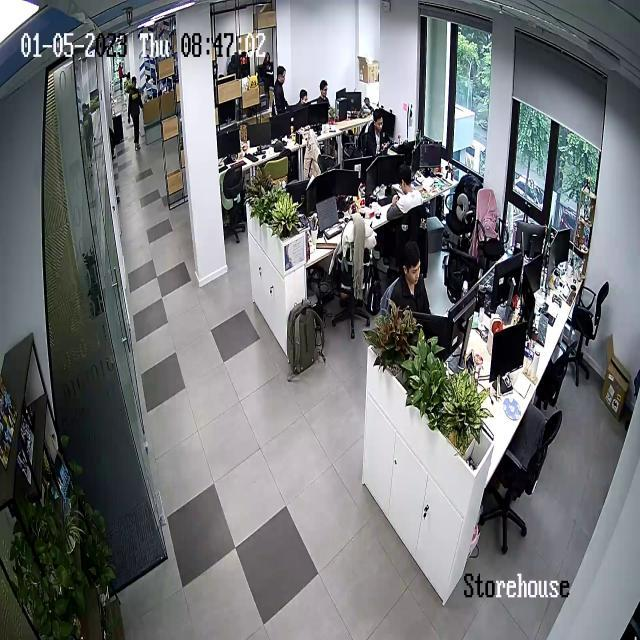person: (385, 241, 432, 315), (390, 163, 426, 214), (127, 72, 144, 150), (361, 108, 386, 159), (308, 79, 332, 125), (274, 65, 292, 115)
